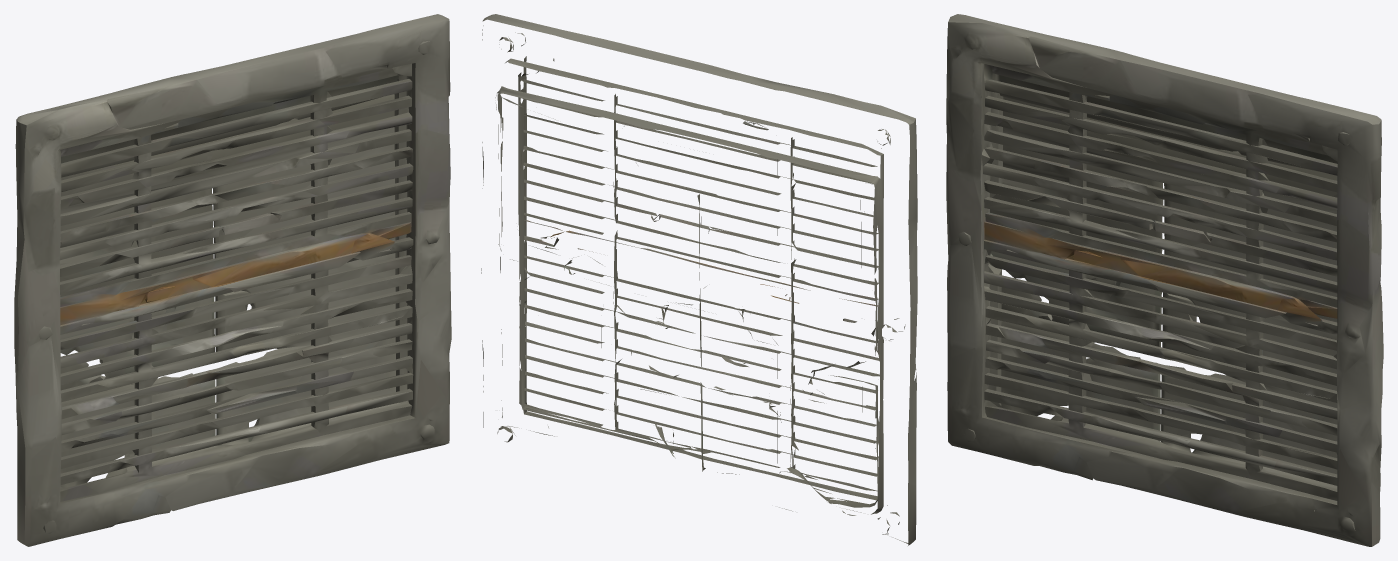
The model's file is decor_vent_idle.glb.
3 renders of one model, left to right at view 1: azimuth 30°, elevation 25°; view 2: azimuth 150°, elevation 25°; view 3: azimuth 330°, elevation 25°, orthographic.
Parts seen in each view (by area): view 1: tripo_node_f6fd4de4-e9be-4413-80dc-ced5eed28612; view 2: tripo_node_f6fd4de4-e9be-4413-80dc-ced5eed28612; view 3: tripo_node_f6fd4de4-e9be-4413-80dc-ced5eed28612.
Part boxes in pixels (bbox=[...]): tripo_node_f6fd4de4-e9be-4413-80dc-ced5eed28612: bbox=[14, 14, 451, 546]; tripo_node_f6fd4de4-e9be-4413-80dc-ced5eed28612: bbox=[481, 14, 917, 545]; tripo_node_f6fd4de4-e9be-4413-80dc-ced5eed28612: bbox=[946, 14, 1383, 546].
Bounding box in the file's own units: 0.5278 × 0.5003 × 0.0501.
1 material, 1 textured.
